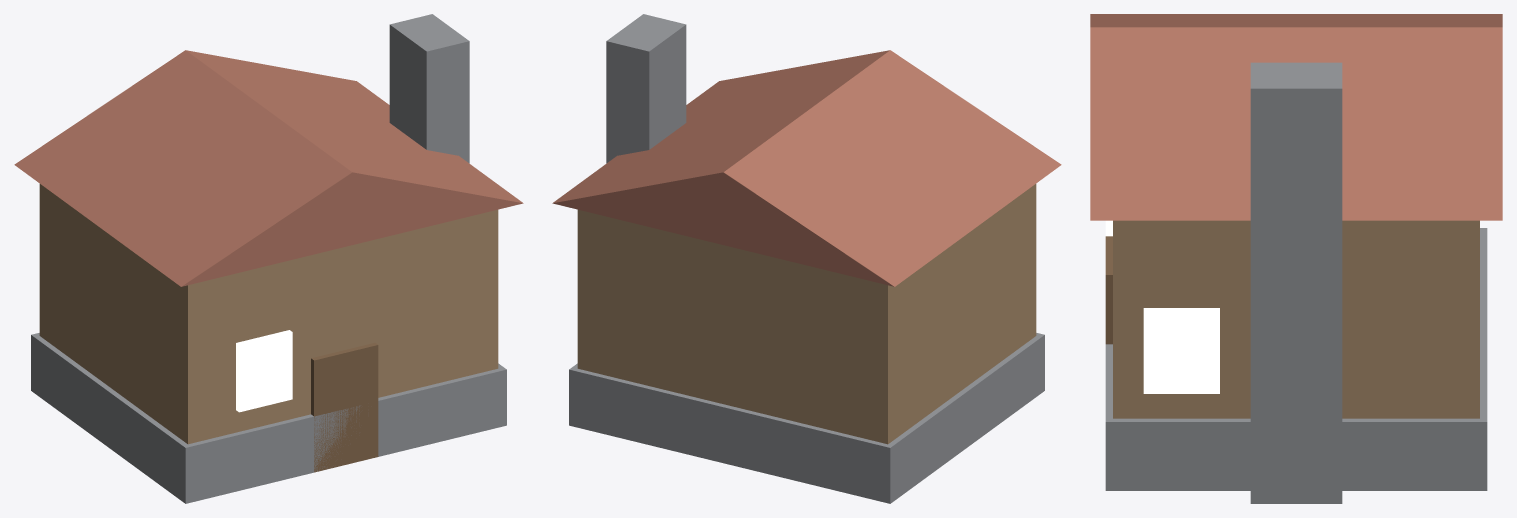
File: house.glb
The picture shows the model from 3 angles, left to right: view 1: azimuth 30°, elevation 25°; view 2: azimuth 150°, elevation 25°; view 3: azimuth 270°, elevation 25°; orthographic projection. The views are drawn at different scales.
Parts seen in each view (by area): view 1: Roof, Walls, Foundation, Chimney, Door, WindowFront; view 2: Walls, Roof, Foundation, Chimney; view 3: Roof, Walls, Chimney, Foundation, WindowSide, Door.
Part boxes in pixels (<box>): Roof: <box>14,50,523,286</box>; Walls: <box>39,184,498,444</box>; Foundation: <box>31,333,506,503</box>; Chimney: <box>389,14,469,163</box>; Door: <box>311,342,378,472</box>; WindowFront: <box>236,330,292,412</box>; Walls: <box>577,184,1036,444</box>; Roof: <box>552,50,1061,286</box>; Foundation: <box>569,333,1044,503</box>; Chimney: <box>606,14,686,163</box>; Roof: <box>1090,14,1502,220</box>; Walls: <box>1113,220,1479,418</box>; Chimney: <box>1250,62,1342,503</box>; Foundation: <box>1105,228,1487,490</box>; WindowSide: <box>1143,308,1219,393</box>; Door: <box>1105,236,1112,344</box>.
Size of what is drawn, in the model's own units: 6.6 by 6 by 5.4.
